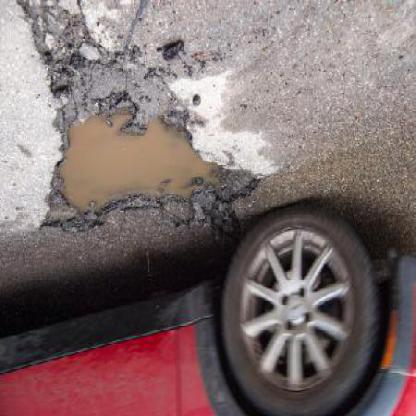pothole: (38, 108, 262, 238)
